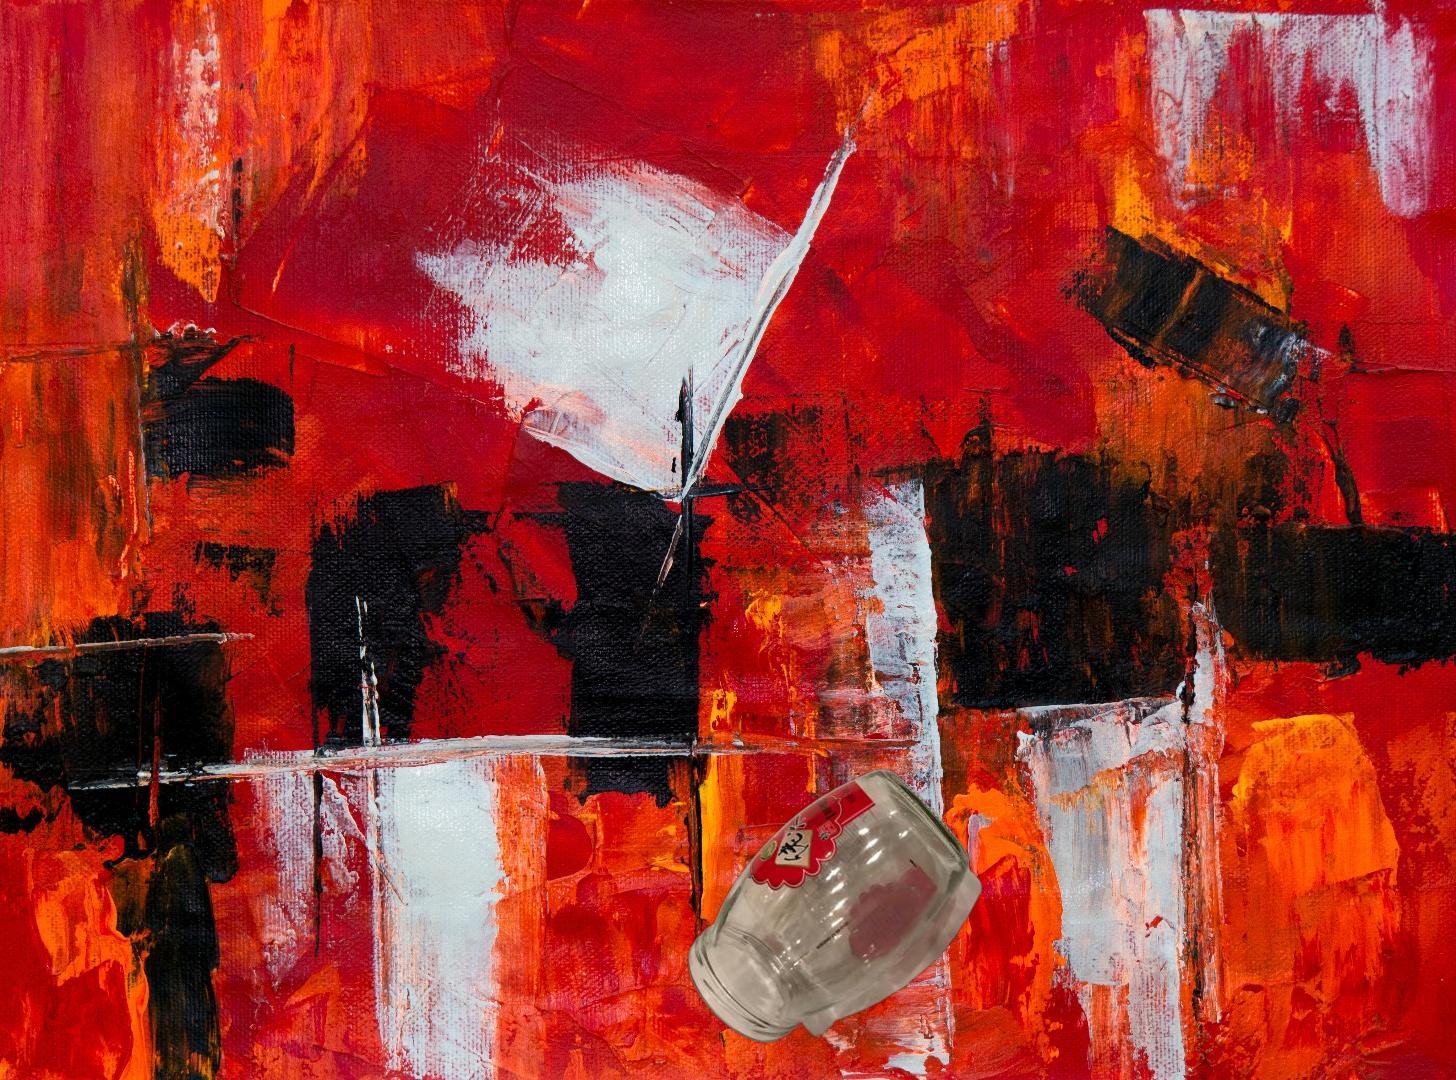glass: (684, 765, 987, 1058)
